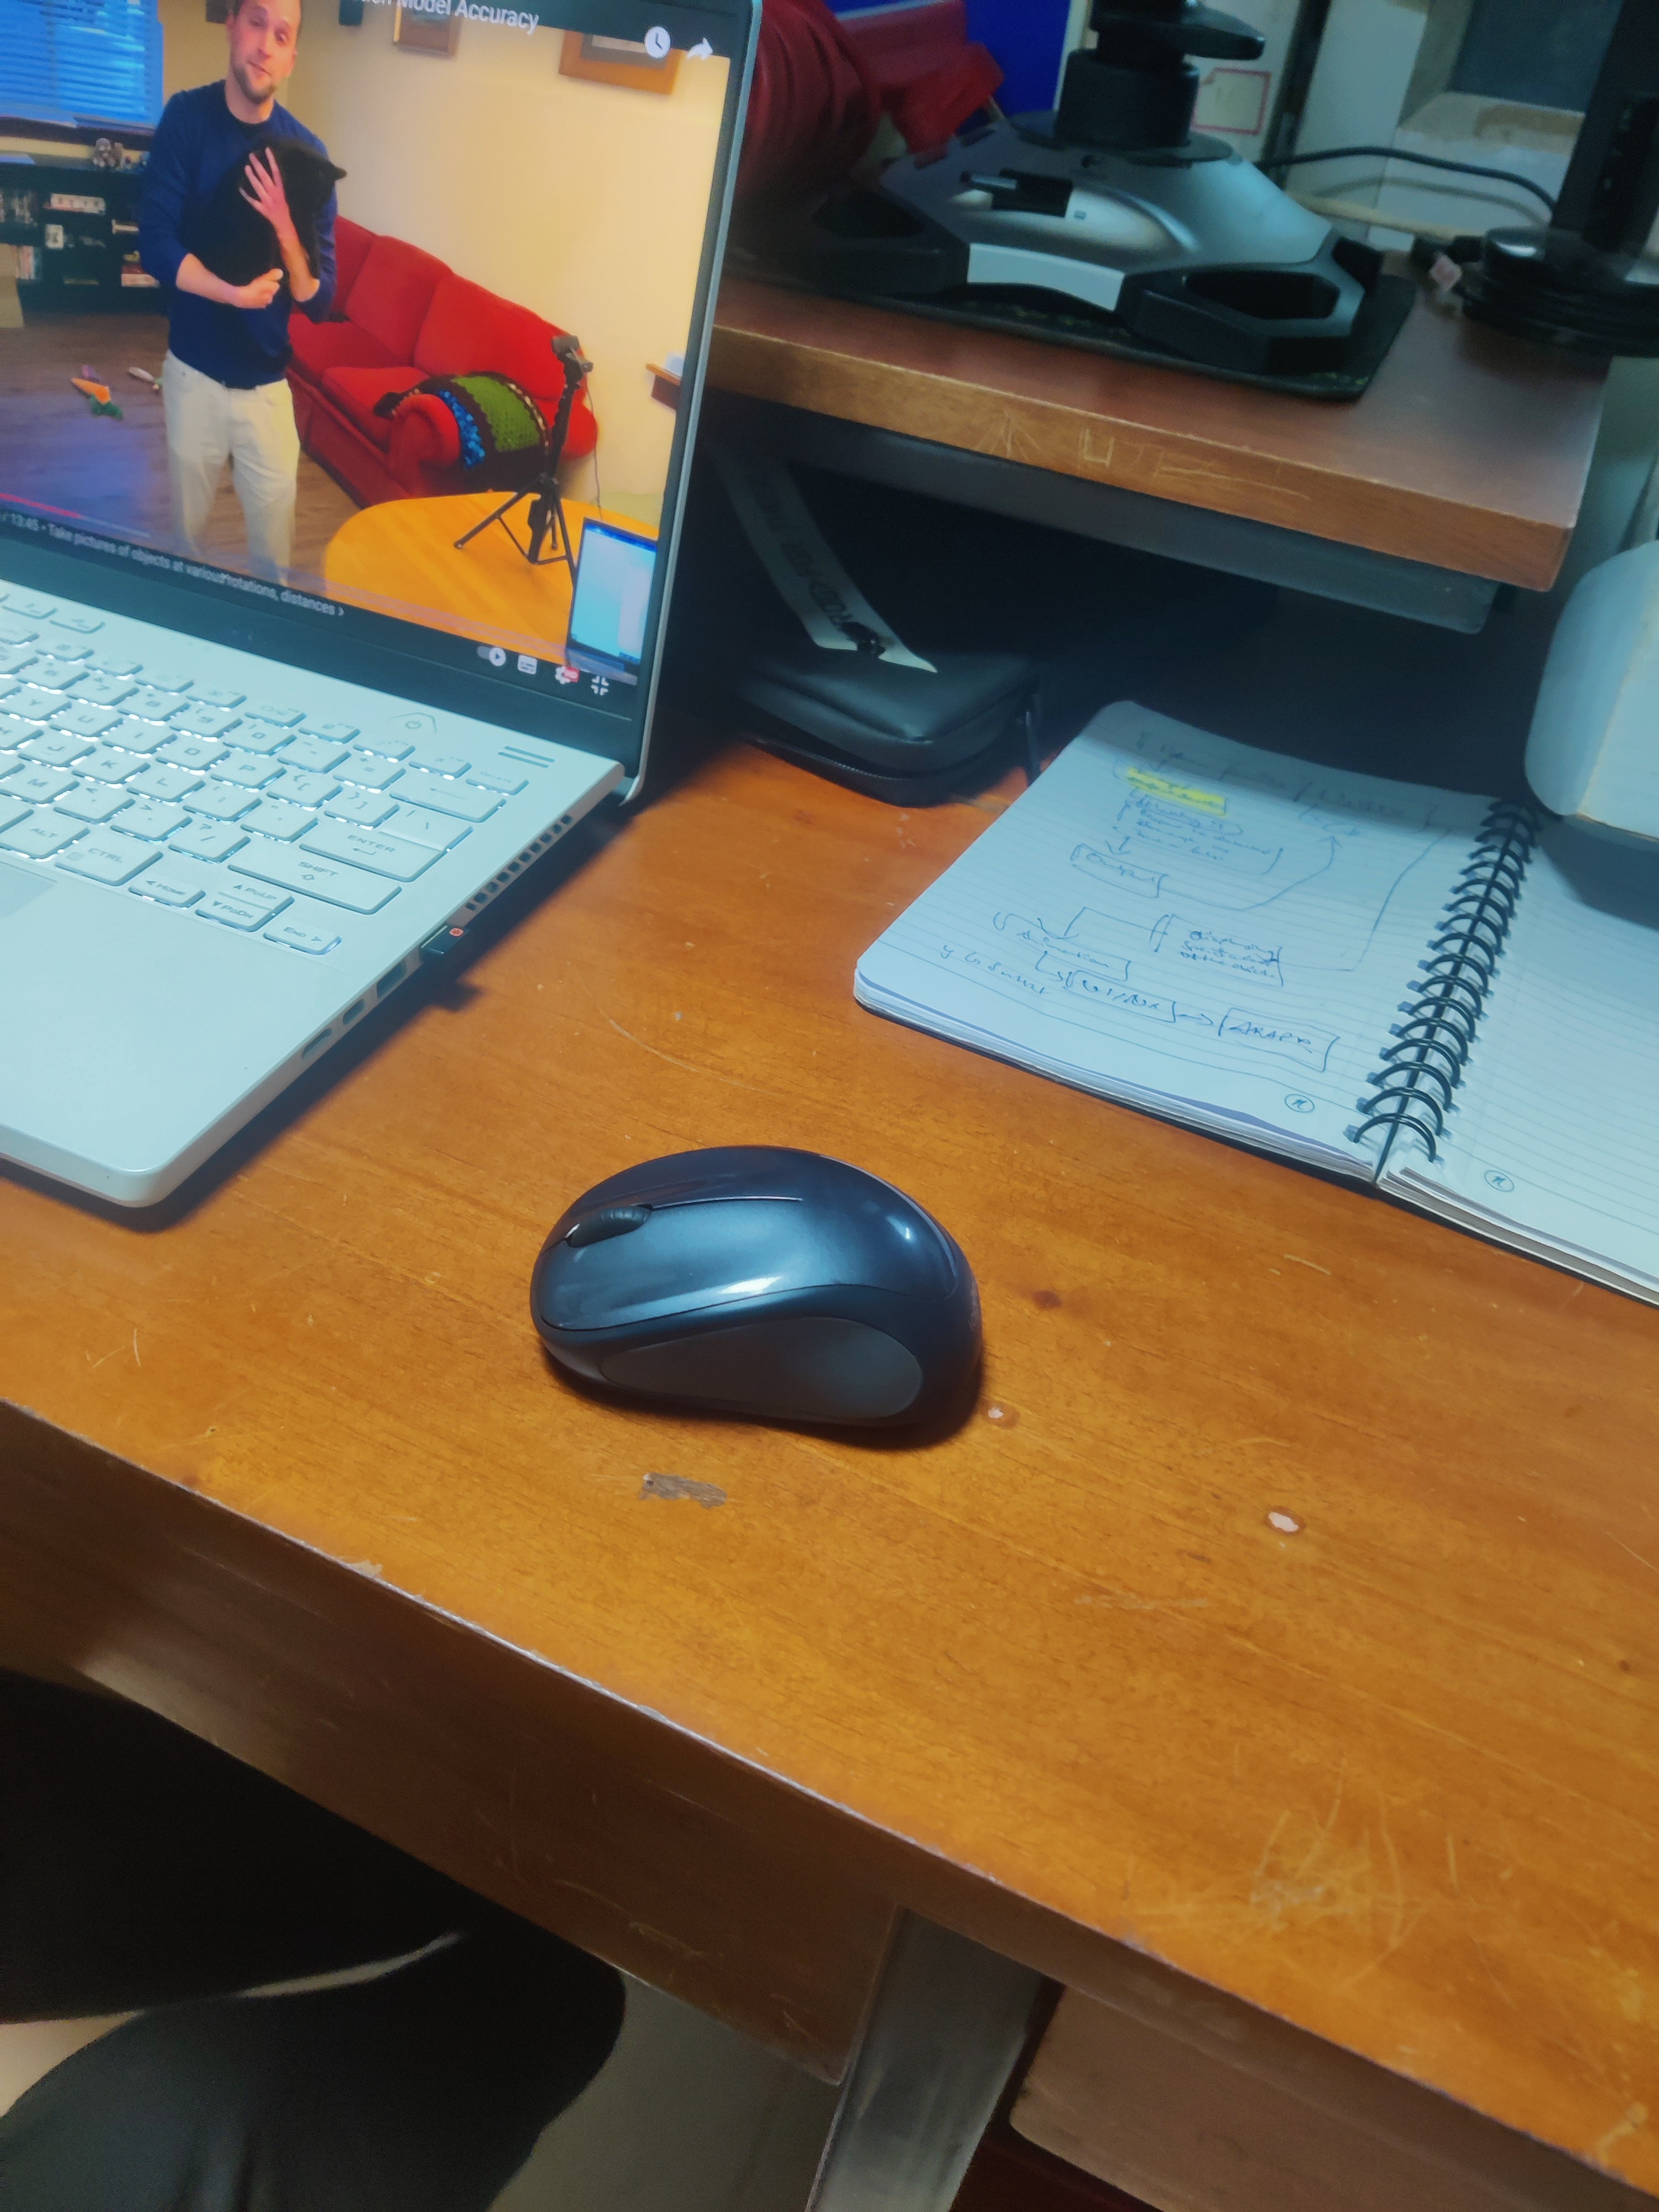logitechMouse: (525, 1139, 995, 1458)
